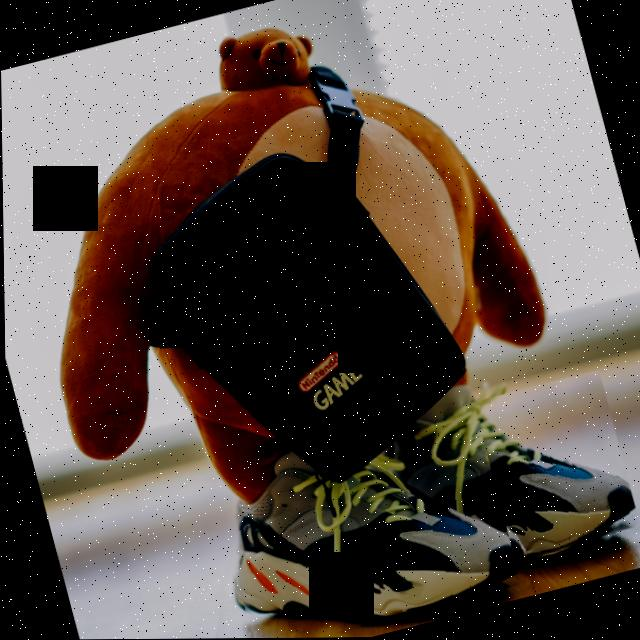shoe: (208, 433, 519, 639), (402, 370, 640, 585)
